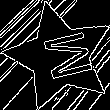M_W: (29, 28, 90, 85)
